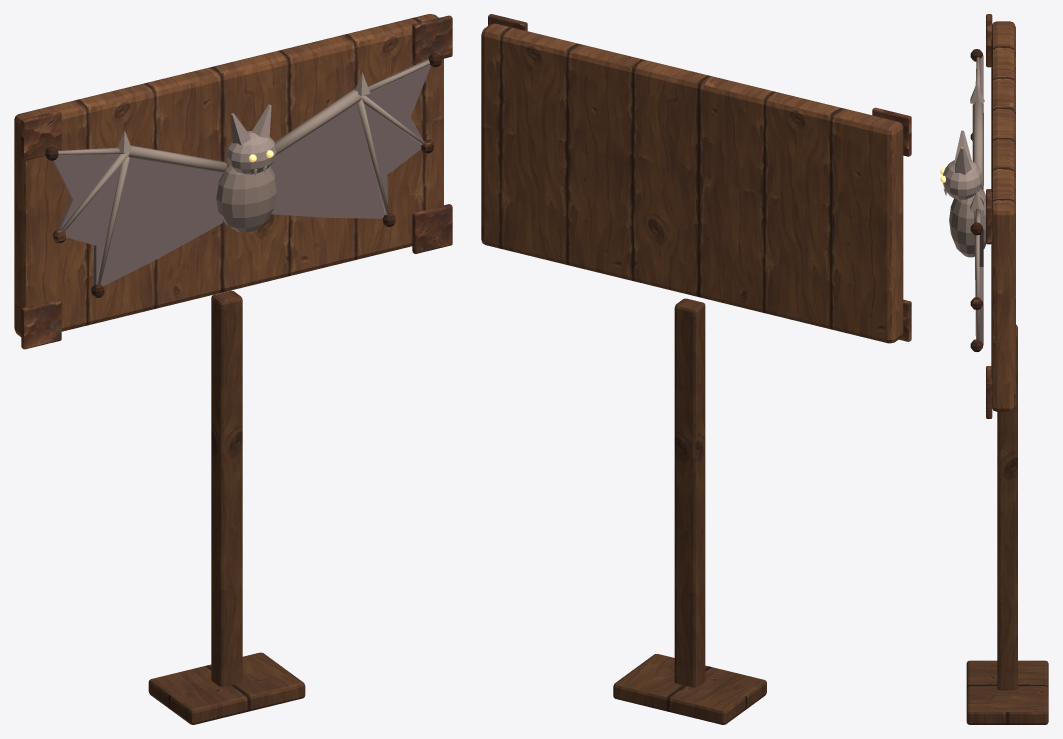
File: bat_wing_trophy.glb
3 views of the same model, side by side, from view 1: azimuth 30°, elevation 25°; view 2: azimuth 150°, elevation 25°; view 3: azimuth 270°, elevation 25° (orthographic). The views are drawn at different scales.
Visible parts, largest first — view 1: model; view 2: model; view 3: model.
Part boxes in pixels (bbox=[...]): model: bbox=[14, 14, 452, 724]; model: bbox=[481, 14, 911, 724]; model: bbox=[940, 14, 1048, 724].
Bounding box in the file's own units: 1.12 × 1.58 × 0.264.
Materials: 11 (4 with a texture image).
